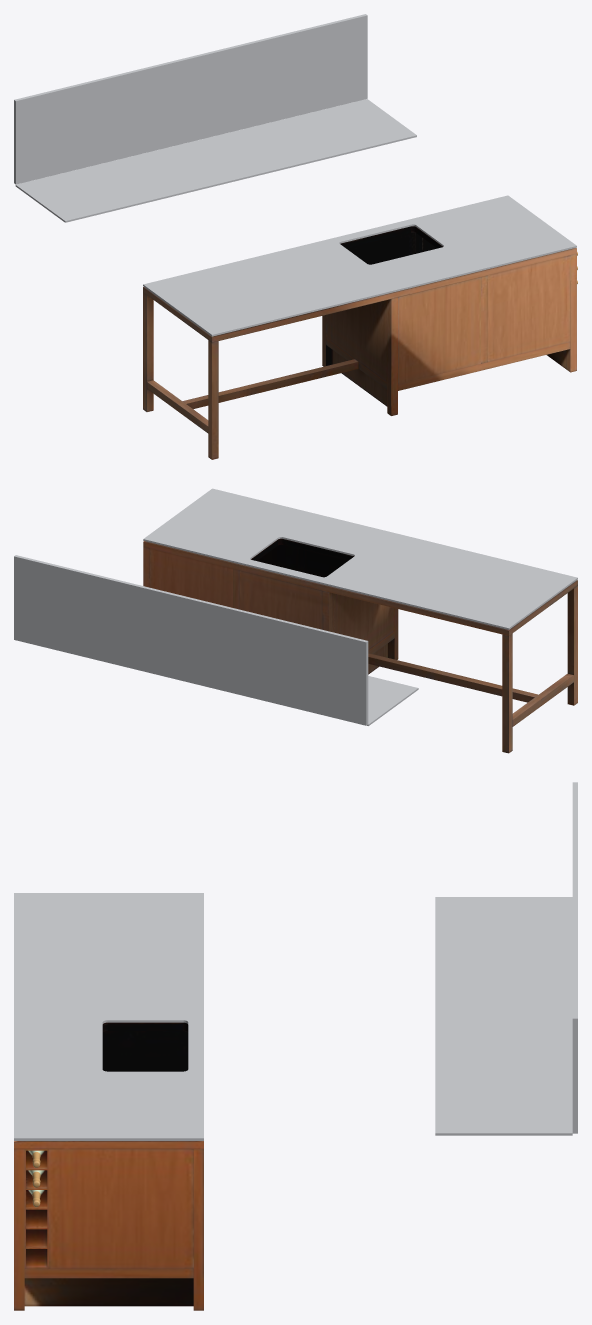
Rendered from CounterTopSteel.glb.
3 views of the same model, one above another, from view 1: azimuth 30°, elevation 25°; view 2: azimuth 150°, elevation 25°; view 3: azimuth 270°, elevation 25° (orthographic). The views are drawn at different scales.
Visible parts, largest first — view 1: Table.002, Alumininum_Kitchen_Backsplash.002, object_91.002; view 2: Table.002, Alumininum_Kitchen_Backsplash.002, object_91.002; view 3: Table.002, object_91.002, Alumininum_Kitchen_Backsplash.002.
Part boxes in pixels (x1,y1,x2,y2): Table.002: (143, 195, 576, 459); Alumininum_Kitchen_Backsplash.002: (14, 14, 367, 184); object_91.002: (15, 99, 416, 222); Table.002: (143, 488, 577, 753); Alumininum_Kitchen_Backsplash.002: (14, 555, 368, 725); object_91.002: (367, 676, 418, 725); Table.002: (14, 893, 203, 1310); object_91.002: (435, 897, 572, 1135); Alumininum_Kitchen_Backsplash.002: (572, 782, 577, 1133).
Size of the model in its own units: 1.13 by 0.6008 by 1.07.
6 materials, 4 textured.
